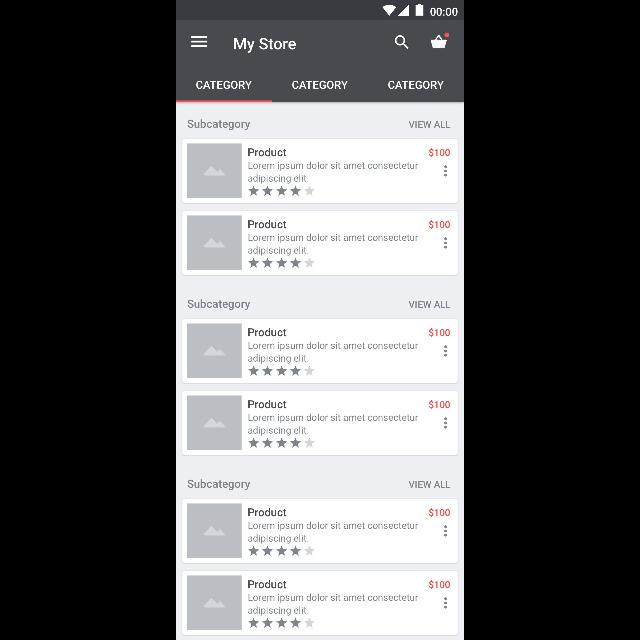icon: (248, 618, 314, 628), (248, 546, 314, 556), (248, 438, 314, 448), (249, 366, 315, 376), (249, 258, 315, 268), (249, 186, 315, 196), (430, 33, 450, 49), (190, 36, 208, 48), (395, 35, 409, 49), (444, 345, 448, 357), (444, 597, 448, 609), (444, 418, 448, 428), (444, 526, 448, 536), (444, 165, 446, 177), (444, 237, 446, 249)
image: (188, 144, 242, 198), (188, 216, 242, 270), (188, 324, 242, 378), (188, 396, 242, 450), (188, 504, 242, 558), (188, 576, 242, 630)
panel: (182, 571, 458, 635), (182, 499, 458, 563), (182, 391, 458, 455), (182, 319, 458, 383), (182, 211, 458, 275), (182, 139, 458, 203)
text: (248, 234, 420, 256), (248, 162, 418, 184), (248, 342, 418, 364), (248, 414, 418, 436), (248, 522, 418, 544), (248, 594, 418, 616), (234, 38, 296, 54), (188, 299, 250, 311), (188, 479, 250, 491), (188, 120, 250, 130), (196, 80, 252, 90), (292, 80, 348, 90), (388, 81, 444, 89), (249, 148, 287, 158), (248, 399, 288, 408), (248, 328, 286, 337), (409, 120, 451, 128), (409, 300, 451, 308), (408, 480, 450, 488), (249, 220, 287, 228), (248, 508, 286, 516), (249, 580, 287, 588), (428, 400, 449, 410), (428, 148, 449, 158), (428, 220, 449, 230), (428, 328, 449, 338), (428, 580, 449, 590), (428, 508, 449, 516)
uppertaskbar: (176, 1, 464, 20)
